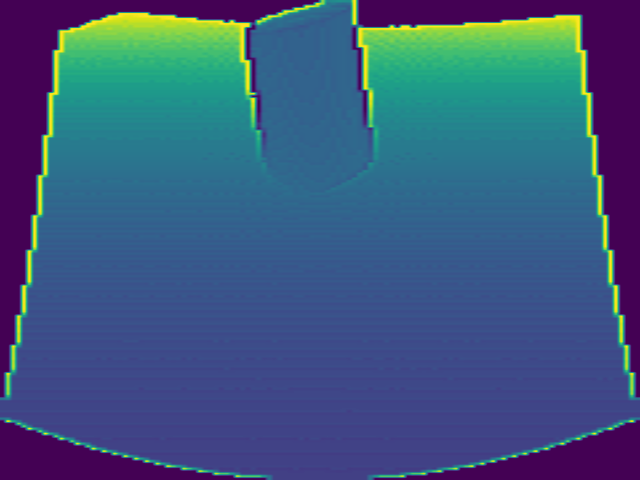cylinder: (243, 1, 378, 194)
